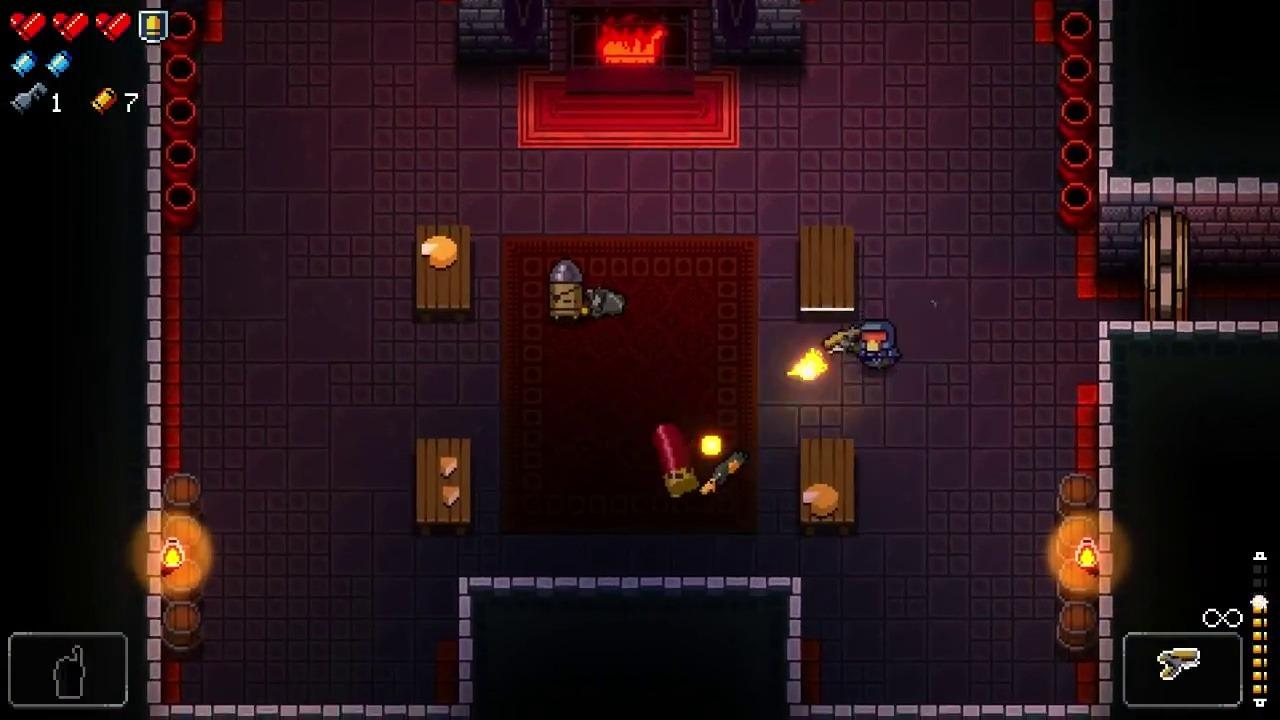locked_door: (1144, 207, 1188, 322)
player: (856, 321, 901, 373)
red_shotgun_kin: (650, 422, 700, 499)
table: (801, 223, 855, 323), (416, 439, 471, 537), (801, 440, 855, 538), (417, 225, 471, 321)
veteran_bullet_kin: (549, 261, 585, 323)
